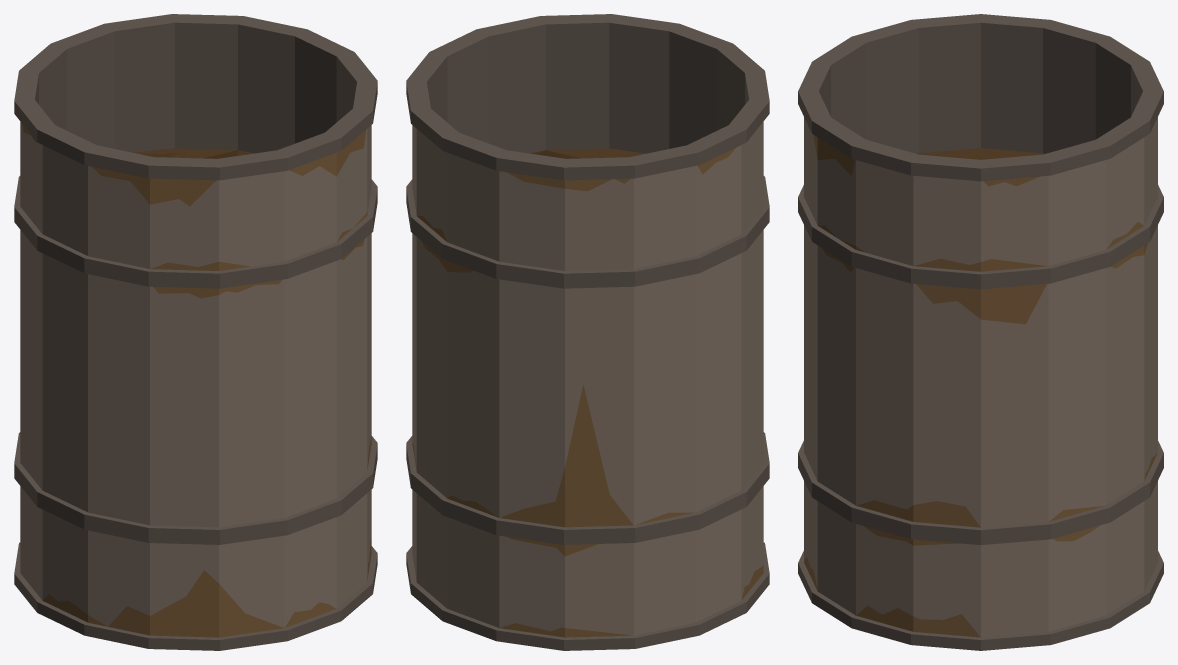
Rendered from SM_Barrel_02.glb.
3 views of the same model, side by side, from view 1: azimuth 30°, elevation 25°; view 2: azimuth 150°, elevation 25°; view 3: azimuth 270°, elevation 25° (orthographic).
Visible parts, largest first — view 1: SM_Barrel_02; view 2: SM_Barrel_02; view 3: SM_Barrel_02.
Boxes of the visible parts, x1,y1,x2,y2 form: SM_Barrel_02: [14, 14, 377, 650]; SM_Barrel_02: [406, 14, 769, 650]; SM_Barrel_02: [798, 14, 1163, 650].
Size of the model in its own units: 0.6096 by 0.8866 by 0.6096.
Materials: 1 (1 with a texture image).
